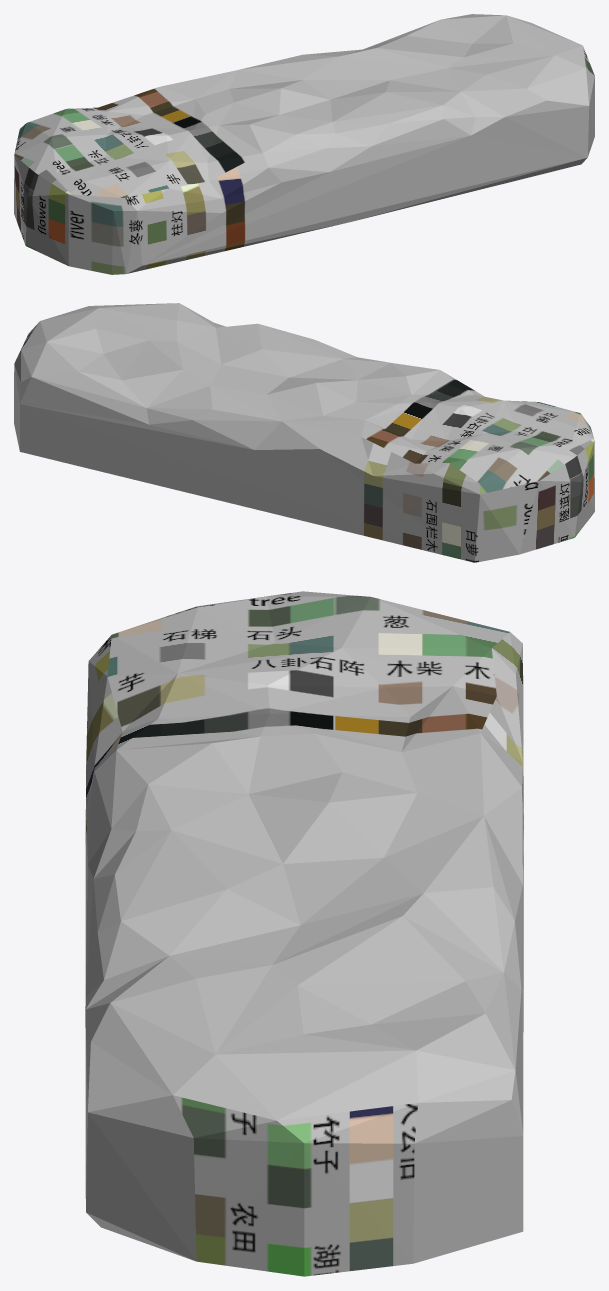
Rendered from road3.fbx.
3 views of the same model, one above another, from view 1: azimuth 30°, elevation 25°; view 2: azimuth 150°, elevation 25°; view 3: azimuth 270°, elevation 25° (orthographic). The views are drawn at different scales.
Parts seen in each view (by area): view 1: road3; view 2: road3; view 3: road3.
Boxes of the visible parts, x1,y1,x2,y2 form: road3: (14, 14, 594, 274); road3: (14, 303, 594, 562); road3: (85, 591, 523, 1276).
Bounding box in the file's own units: 394 × 63.81 × 135.
